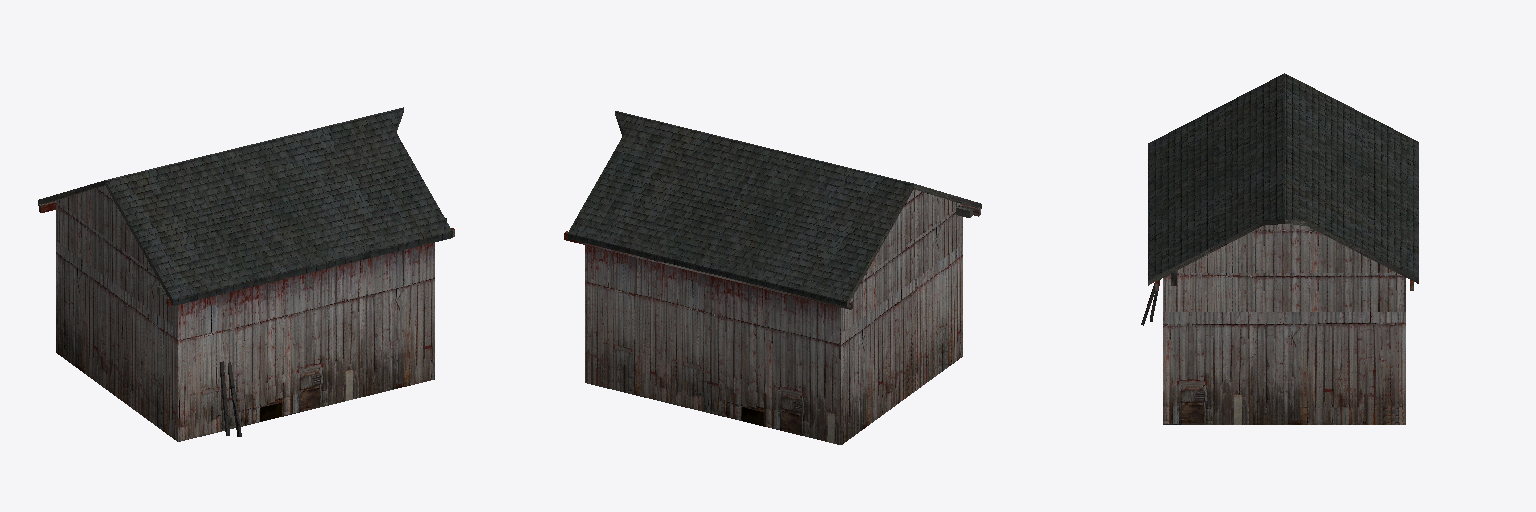
The picture shows the model from 3 angles: view 1: azimuth 30°, elevation 25°; view 2: azimuth 150°, elevation 25°; view 3: azimuth 270°, elevation 25°; orthographic projection.
Size of the model in its own units: 15.43 by 10.82 by 12.33.
2 materials, 1 textured.